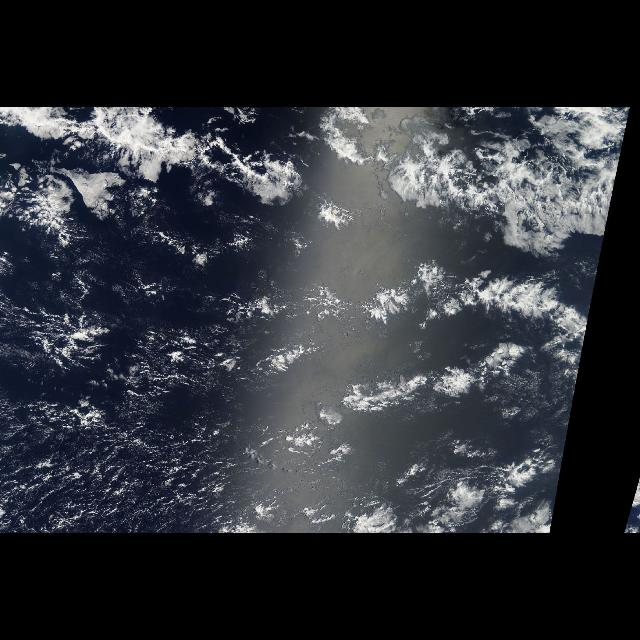Fish: (2, 108, 308, 255), (366, 249, 586, 345)
Sugar: (2, 392, 258, 534)
